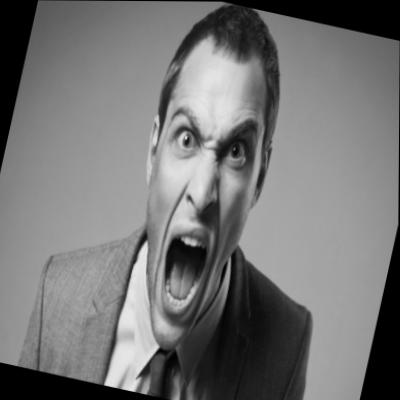angry: (117, 34, 286, 361)
